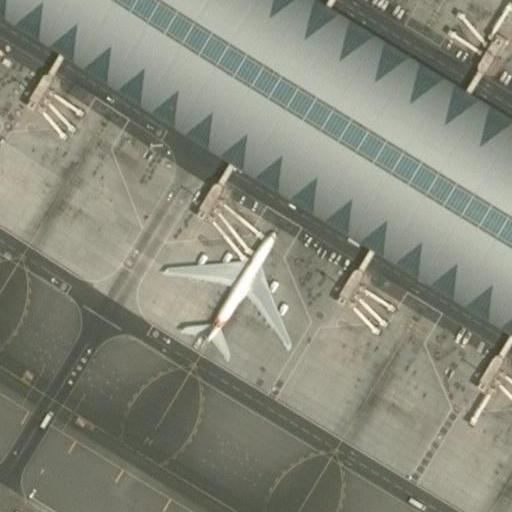Aircraft: (163, 211, 297, 362)
